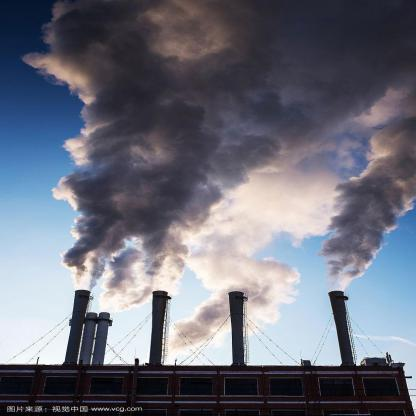smoke: (214, 8, 407, 84), (32, 4, 213, 75), (68, 190, 196, 288), (64, 134, 264, 188), (228, 84, 412, 138), (65, 76, 226, 132), (333, 146, 412, 218), (319, 221, 385, 283), (211, 257, 287, 299)
